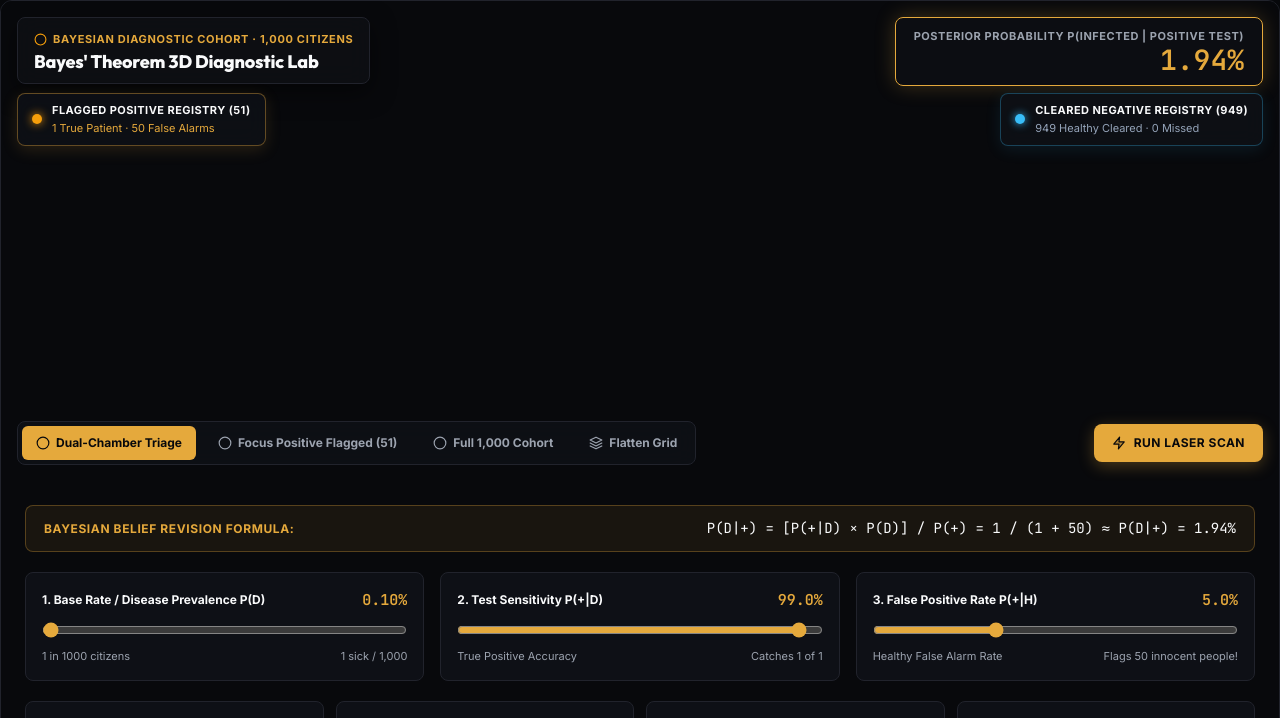
Test: BayesTheorem3DLab › updates posterior probability when changing the base rate slider
Set the slider named "Base Rate" to "5.0" at (166, 630), box x1=42 y1=622 x2=407 y2=638
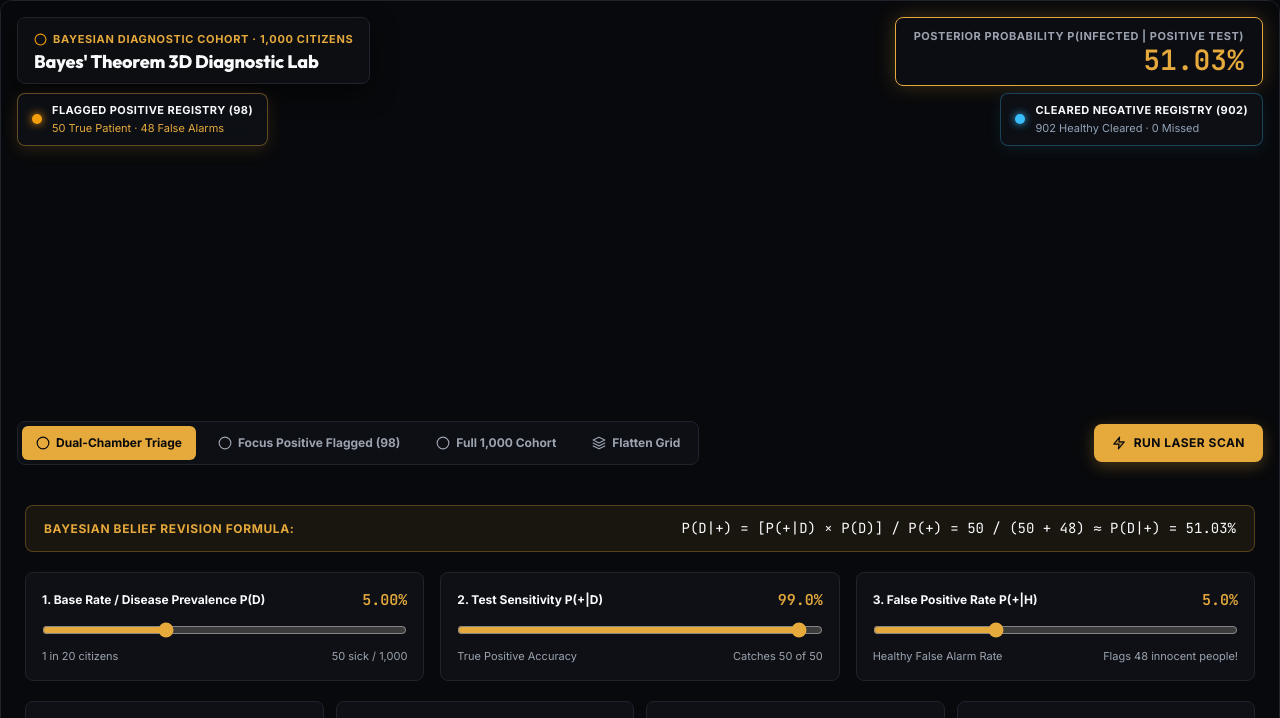
Expected: the text "1.94%" is gone
